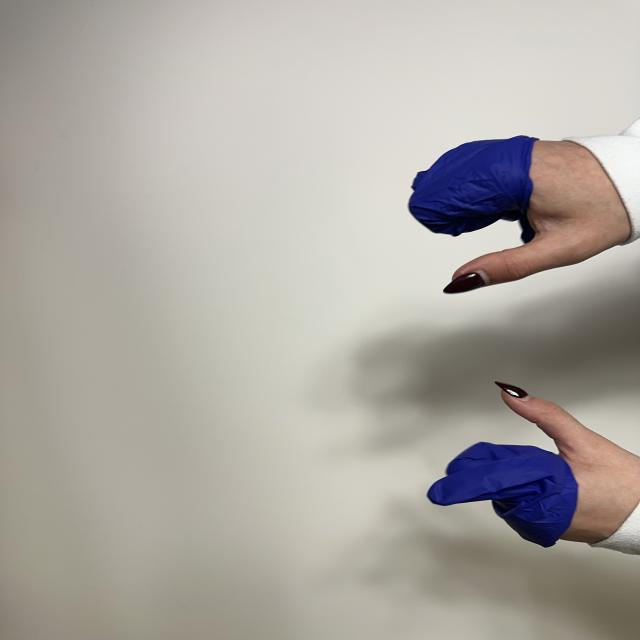glove_partial: (428, 382, 640, 547), (409, 136, 630, 294)
